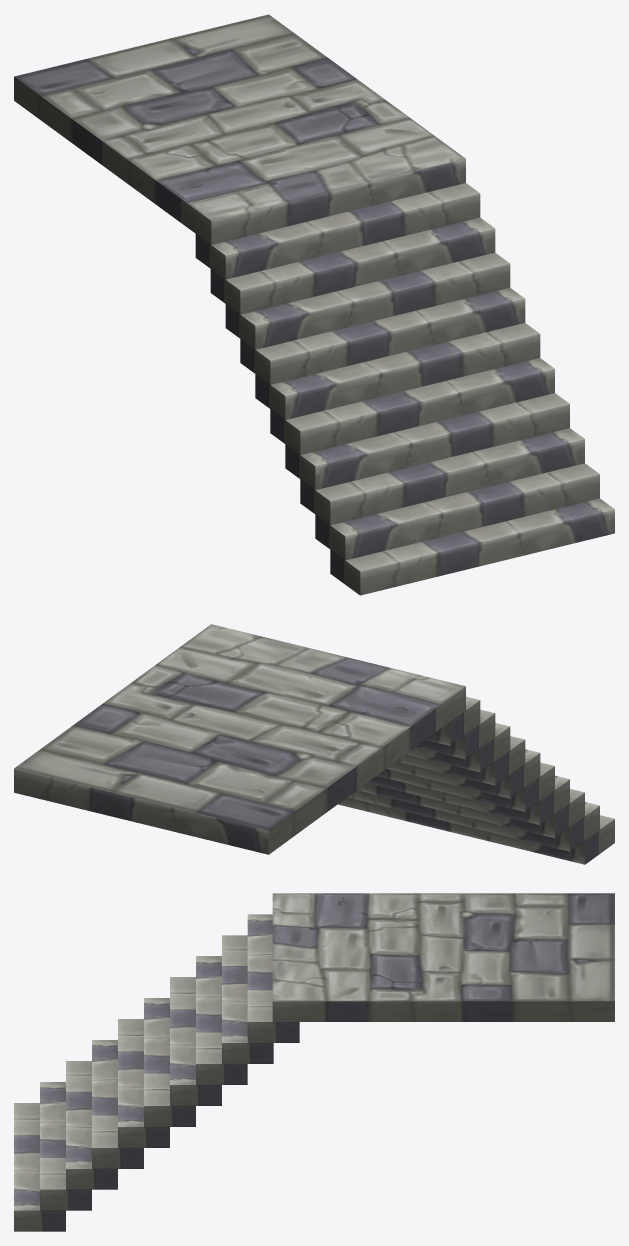
Rendered from OutdoorM_Stair_a_ten.FBX.
3 renders of one model, top to bottom at view 1: azimuth 30°, elevation 25°; view 2: azimuth 150°, elevation 25°; view 3: azimuth 270°, elevation 25°, orthographic. The views are drawn at different scales.
Parts seen in each view (by area): view 1: OutdoorM_Stair_a_ten; view 2: OutdoorM_Stair_a_ten; view 3: OutdoorM_Stair_a_ten.
Part boxes in pixels (x1,y1,x2,y2): OutdoorM_Stair_a_ten: (14,14,614,595); OutdoorM_Stair_a_ten: (14,624,614,864); OutdoorM_Stair_a_ten: (14,893,614,1231).
Size of the model in its own units: 17.6 by 17.53 by 41.42.
